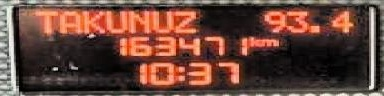-: (306, 23, 320, 33)
0: (146, 61, 173, 85)
1: (135, 61, 144, 85), (116, 36, 127, 55), (238, 35, 247, 56)
3: (184, 61, 211, 85), (284, 9, 309, 32), (151, 35, 175, 56)
4: (329, 8, 353, 34), (175, 36, 200, 56)
6: (126, 35, 151, 56)
7: (213, 61, 238, 82), (202, 35, 224, 55)
9: (262, 9, 284, 32)
X: (31, 8, 55, 33), (171, 9, 195, 32), (80, 8, 102, 33), (127, 8, 149, 32), (149, 9, 171, 32), (58, 9, 80, 32), (104, 8, 124, 32), (173, 64, 182, 82), (260, 37, 278, 46), (249, 35, 258, 46)
